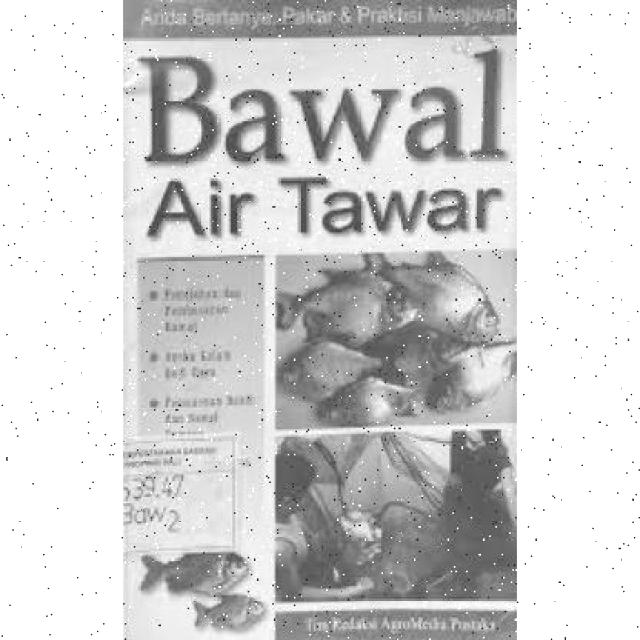ikan-pacu: (293, 268, 421, 344), (418, 263, 504, 340)
